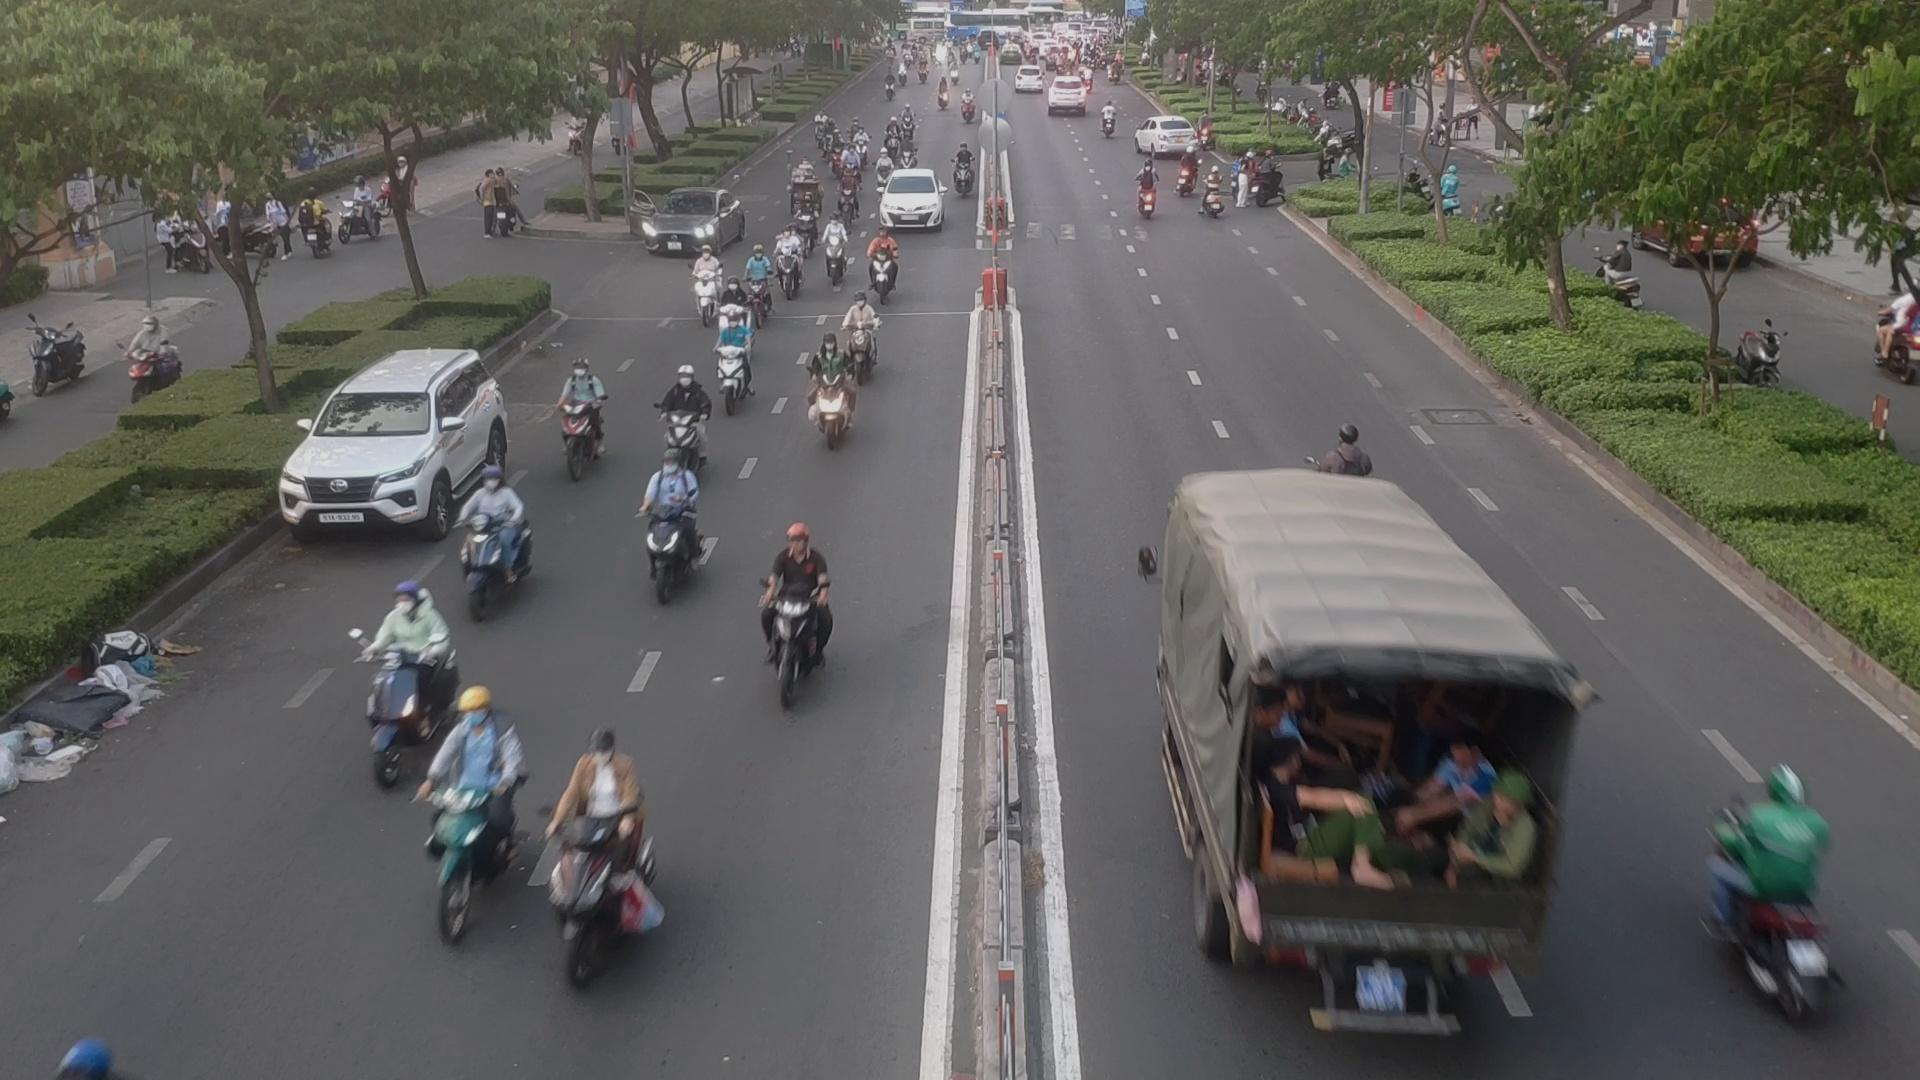car: (1149, 465, 1619, 1075), (276, 345, 516, 539), (632, 190, 752, 260), (873, 171, 942, 229), (1130, 113, 1199, 153)
motorbike: (520, 738, 649, 1014), (1696, 769, 1826, 1000), (429, 680, 541, 942), (355, 587, 439, 796), (637, 444, 698, 603), (454, 477, 520, 618), (766, 524, 823, 684), (550, 365, 601, 500), (658, 376, 709, 480), (804, 328, 848, 439), (715, 307, 757, 415), (858, 222, 894, 295), (844, 293, 876, 371), (688, 243, 723, 311), (750, 237, 774, 314), (1135, 160, 1162, 228), (1329, 415, 1356, 480), (800, 191, 823, 249), (822, 216, 840, 285), (1203, 164, 1224, 222), (783, 228, 800, 291), (952, 145, 973, 195), (840, 174, 856, 228), (1178, 148, 1193, 195), (876, 148, 891, 195), (825, 131, 843, 173), (895, 137, 914, 174), (857, 127, 872, 164), (886, 117, 898, 154), (899, 105, 911, 138)
